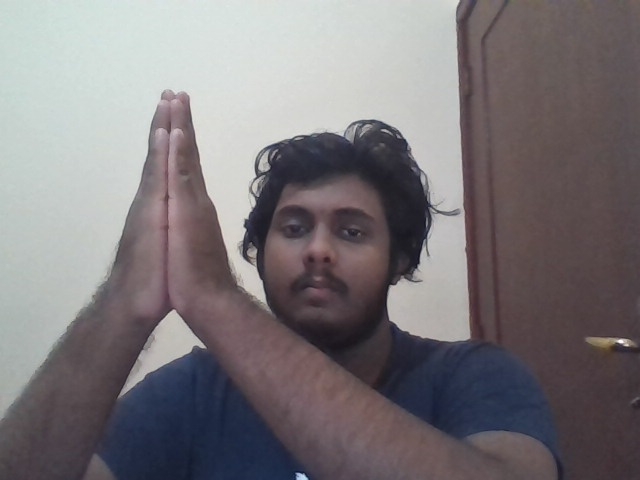namaste: (102, 89, 235, 318)
